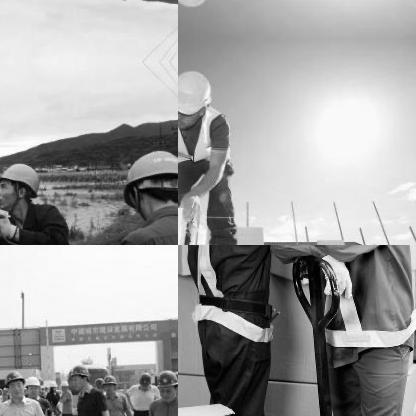Helmet: (116, 141, 177, 221), (178, 62, 215, 135), (0, 157, 43, 216), (154, 369, 178, 397), (5, 366, 24, 396), (70, 360, 90, 388), (178, 0, 215, 14), (23, 372, 39, 398), (136, 369, 152, 389), (102, 372, 116, 392), (91, 376, 103, 394), (57, 377, 68, 393), (48, 377, 56, 391), (174, 370, 177, 395)
